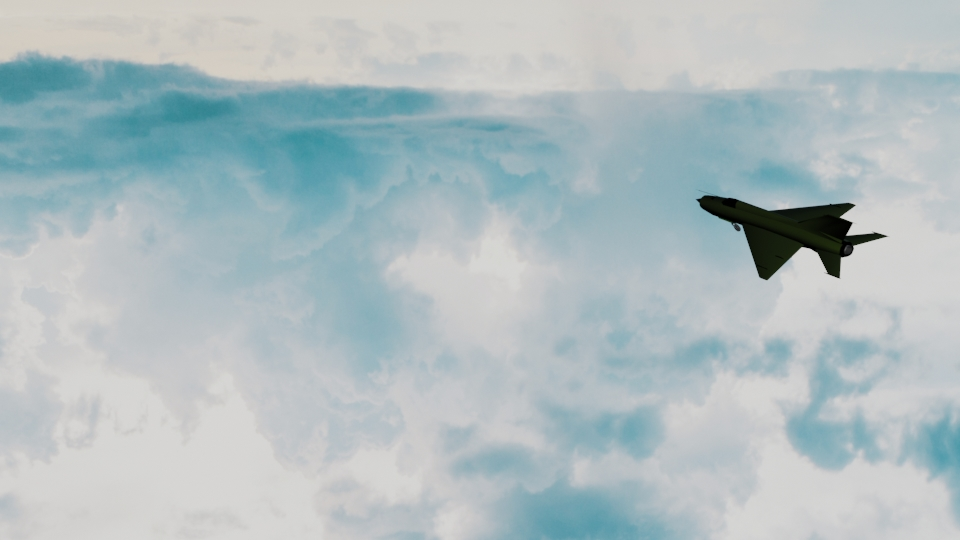plane: (695, 192, 884, 286)
